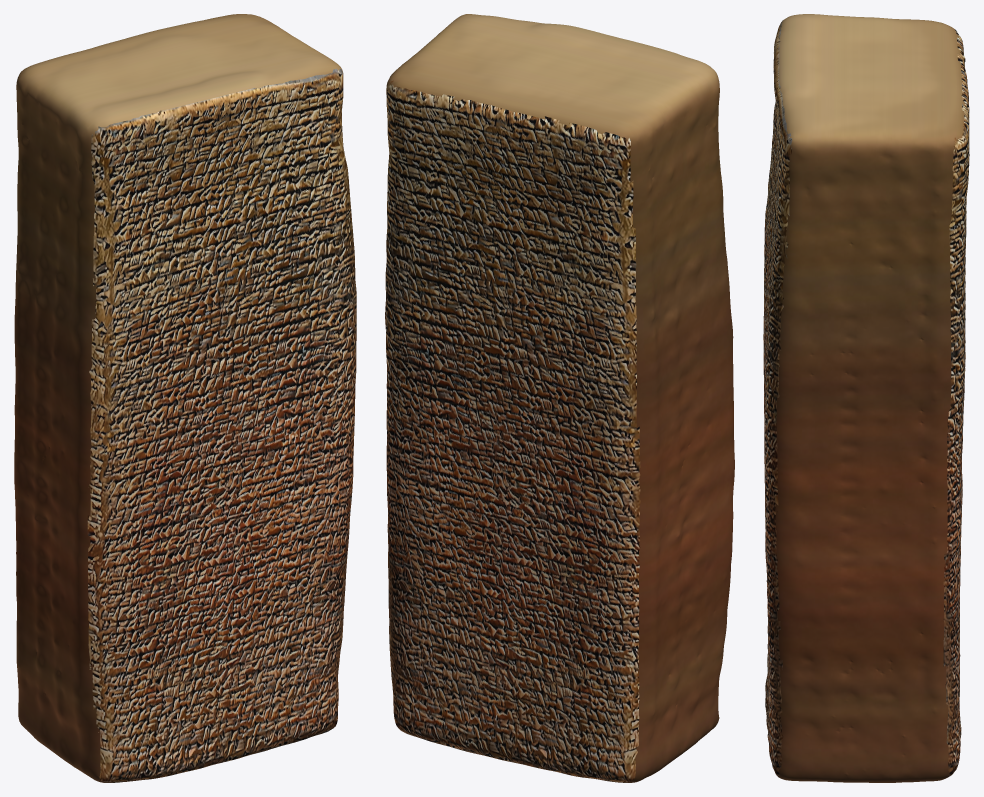
Rendered from ane-13.glb.
3 renders of one model, left to right at view 1: azimuth 30°, elevation 25°; view 2: azimuth 150°, elevation 25°; view 3: azimuth 270°, elevation 25°, orthographic.
Visible parts, largest first — view 1: ane-13; view 2: ane-13; view 3: ane-13.
Boxes of the visible parts, x1,y1,x2,y2 form: ane-13: (14,14,356,782); ane-13: (385,14,734,782); ane-13: (763,14,969,782).
Bounding box in the file's own units: 0.4327 × 0.999 × 0.281.
4 materials, 4 textured.
